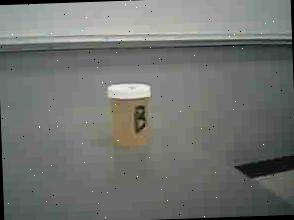Bottle B: (100, 78, 164, 152)
